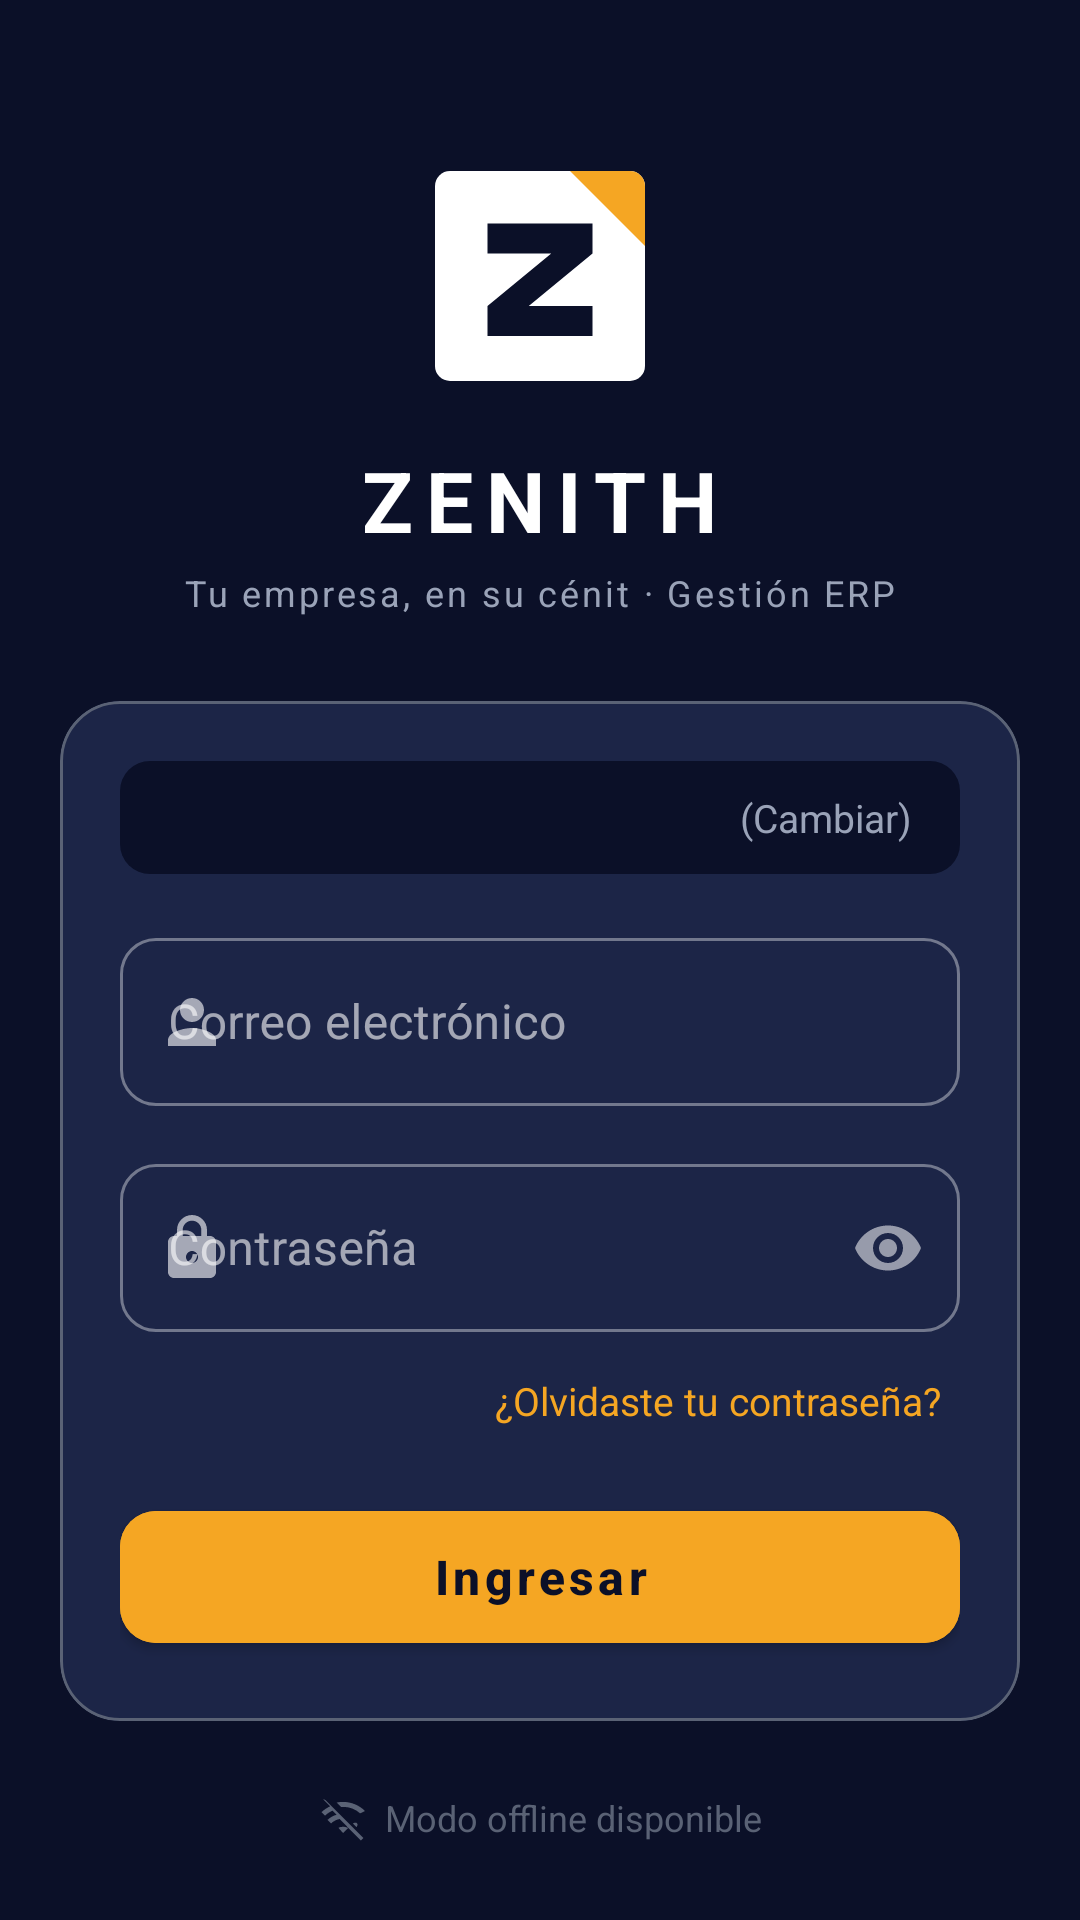

Named icons in this screenshot (1080*1920) and their bounding boxes, (x1,y1,x2,y2):
wifi off: (322,1799,365,1840)
